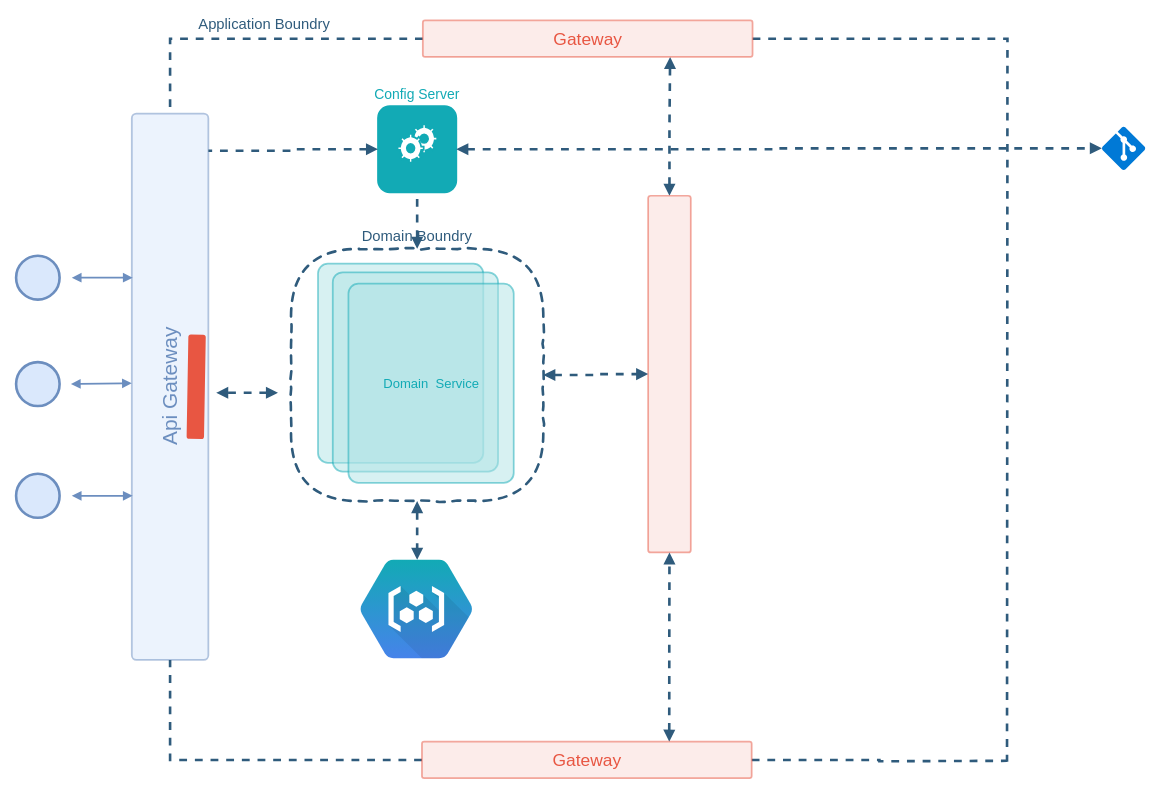
This 1161x793 diagram has some shape labels left out. The centre of each missing label's shape, as x and y in pixels:
"Event Bus" goes at point (669, 373).
"Load Balancer" goes at point (195, 386).
"Registry Service" goes at point (416, 608).
